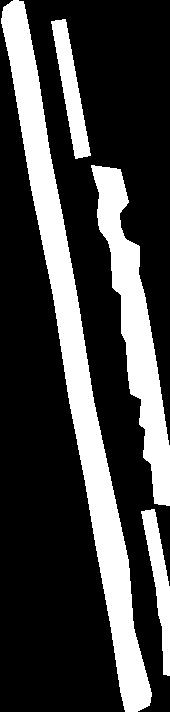parkingspot: (1, 0, 151, 712), (91, 165, 170, 505), (51, 19, 90, 158), (141, 509, 170, 675)
